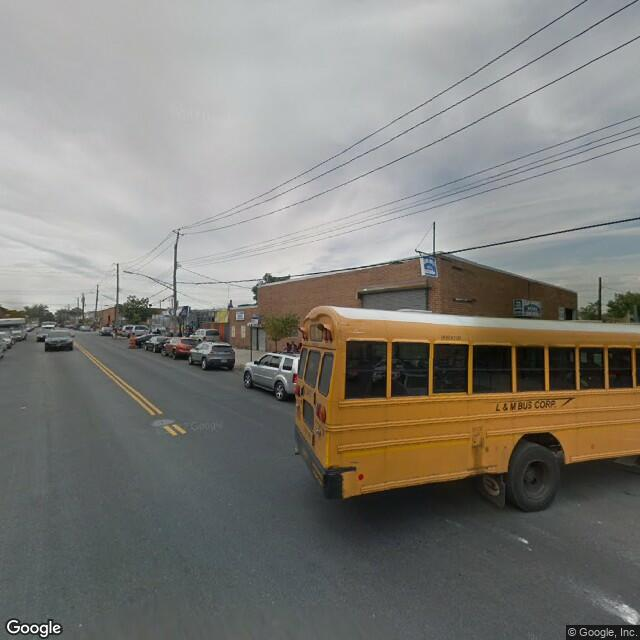litter: (17, 402, 30, 409), (595, 520, 606, 525), (573, 504, 583, 508)
